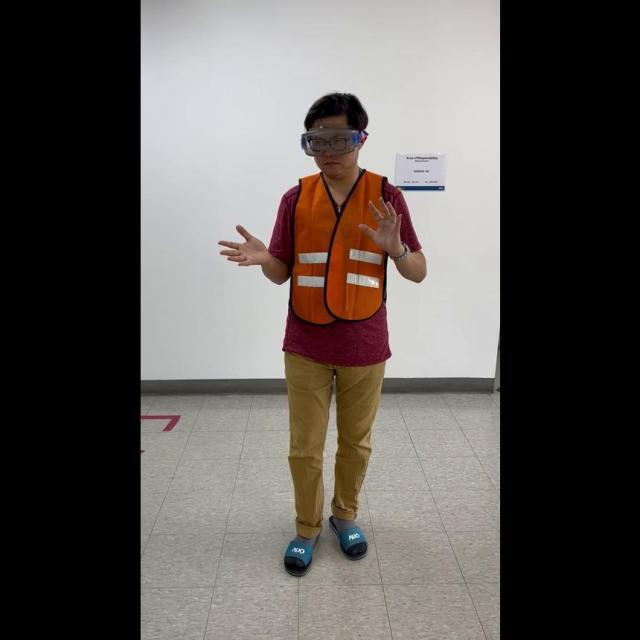bare_hand: (356, 191, 406, 256), (214, 220, 271, 268)
